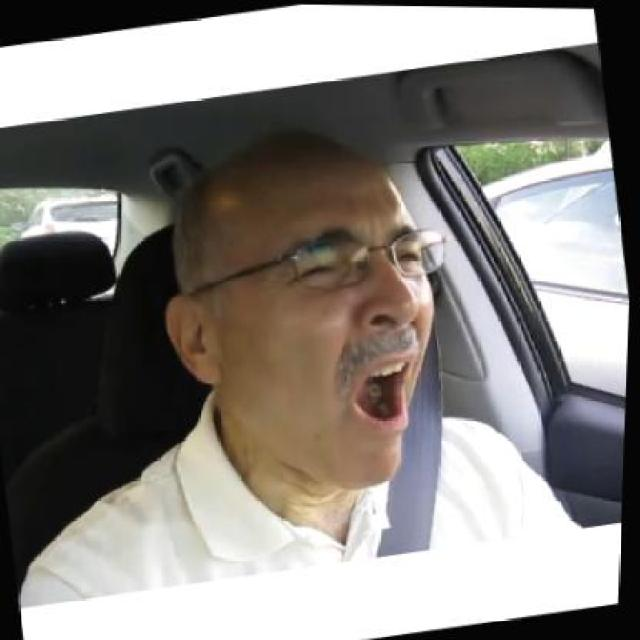inattentif: (137, 104, 468, 514)
